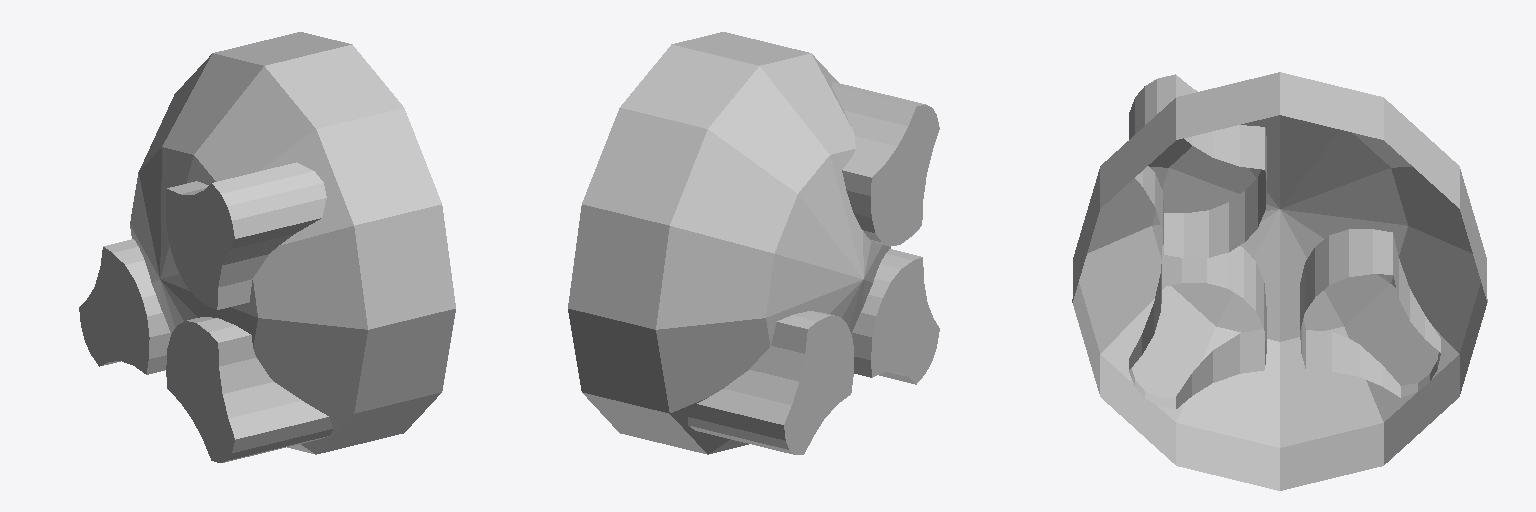
File: 远控和就地转换旋钮.obj
3 renders of one model, left to right at view 1: azimuth 30°, elevation 25°; view 2: azimuth 150°, elevation 25°; view 3: azimuth 270°, elevation 25°, orthographic.
Visible parts, largest first — view 1: default005; view 2: default005; view 3: default005.
Part boxes in pixels (x1,y1,x2,y2): default005: (79, 32, 455, 462); default005: (568, 32, 939, 454); default005: (1072, 72, 1487, 490).
Bounding box in the file's own units: 0.3231 × 0.602 × 0.602.